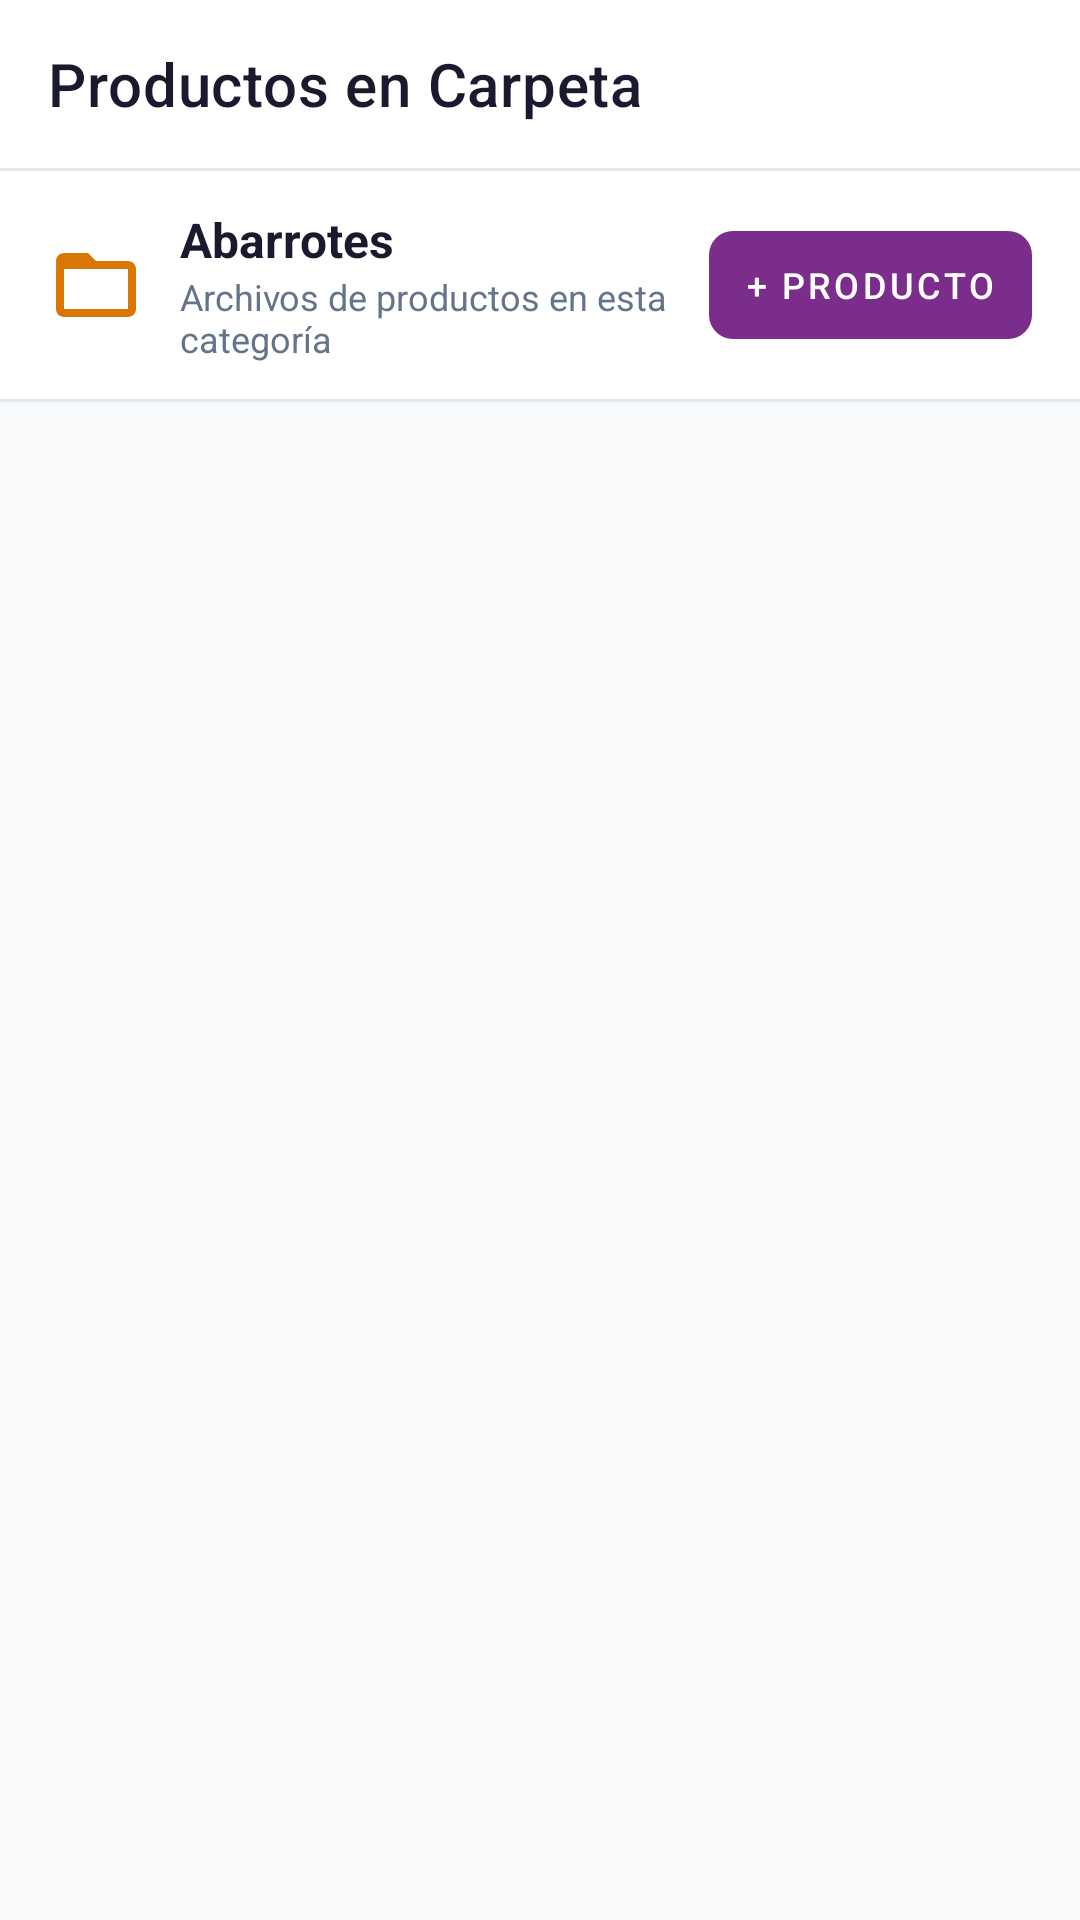

Screen size 1080×1920. Icon name, then its box in pixels as (x1, y1, x2, y2):
folder: (56, 253, 136, 317)
